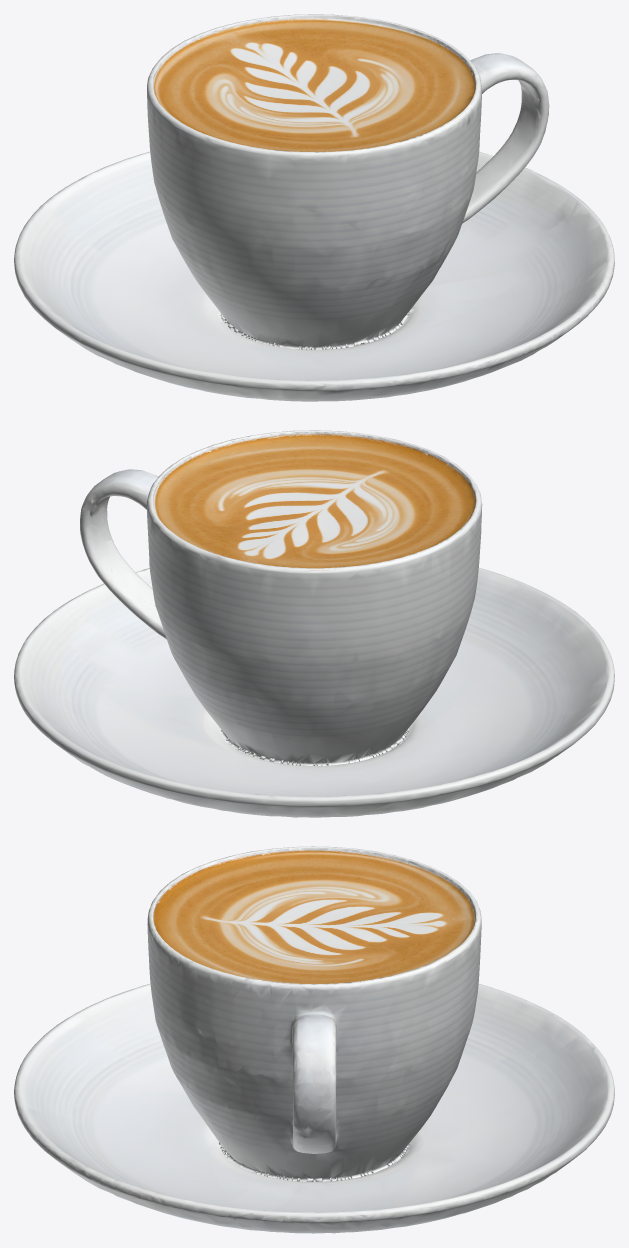
File: cup-hot-dinein.glb
3 views of the same model, one above another, from view 1: azimuth 30°, elevation 25°; view 2: azimuth 150°, elevation 25°; view 3: azimuth 270°, elevation 25° (orthographic).
Visible parts, largest first — view 1: Mesh_0; view 2: Mesh_0; view 3: Mesh_0.
Boxes of the visible parts, x1,y1,x2,y2 form: Mesh_0: (14, 14, 614, 401); Mesh_0: (14, 430, 614, 817); Mesh_0: (14, 846, 614, 1233).
Bounding box in the file's own units: 62619 × 28774 × 62611.
1 material, 1 textured.
